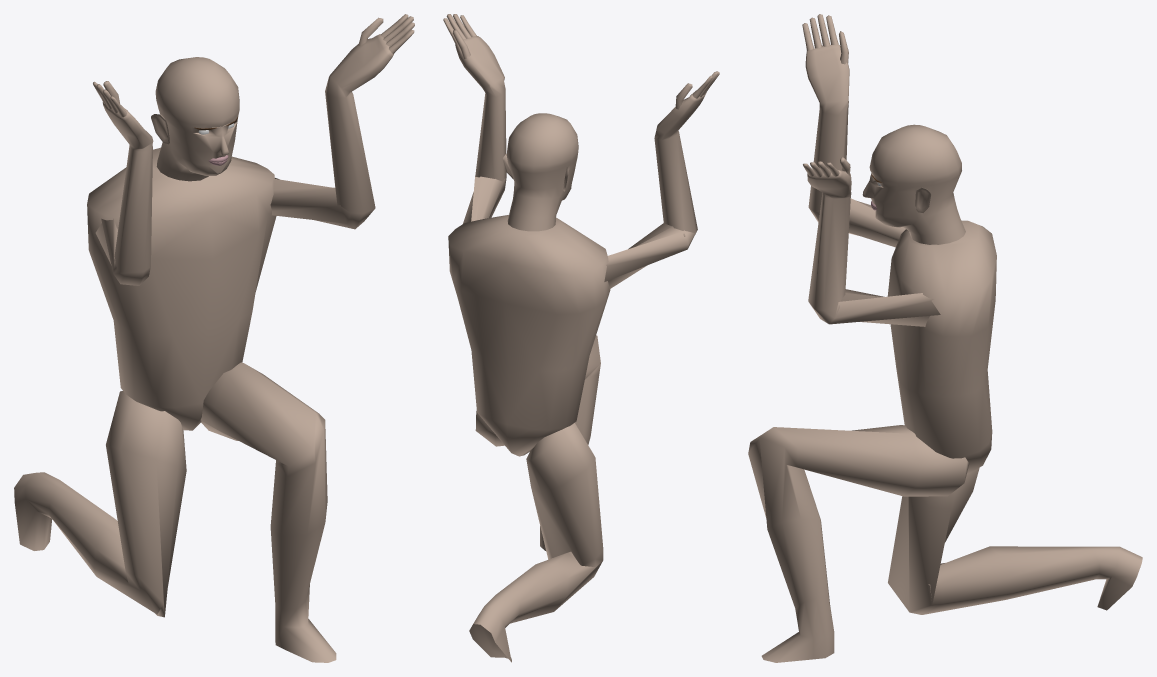
Rendered from Statue.fbx.
3 views of the same model, side by side, from view 1: azimuth 30°, elevation 25°; view 2: azimuth 150°, elevation 25°; view 3: azimuth 270°, elevation 25° (orthographic). The views are drawn at different scales.
Parts seen in each view (by area): view 1: Statue; view 2: Statue; view 3: Statue.
Part boxes in pixels (left/top/right/bottom): Statue: left=14, top=14, right=414, bottom=662; Statue: left=443, top=14, right=719, bottom=662; Statue: left=748, top=14, right=1142, bottom=662.
Size of the model in its own units: 88.25 by 161 by 104.
